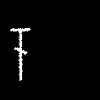double_crochet: (11, 28, 29, 79)
